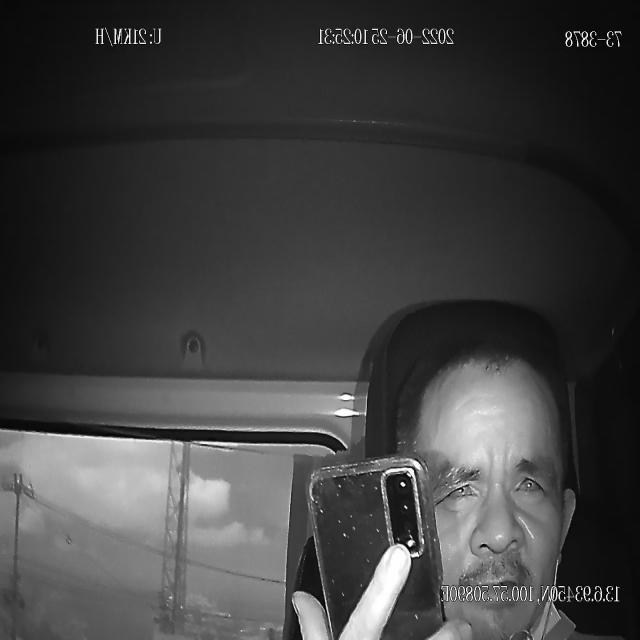phone: (307, 453, 446, 640)
